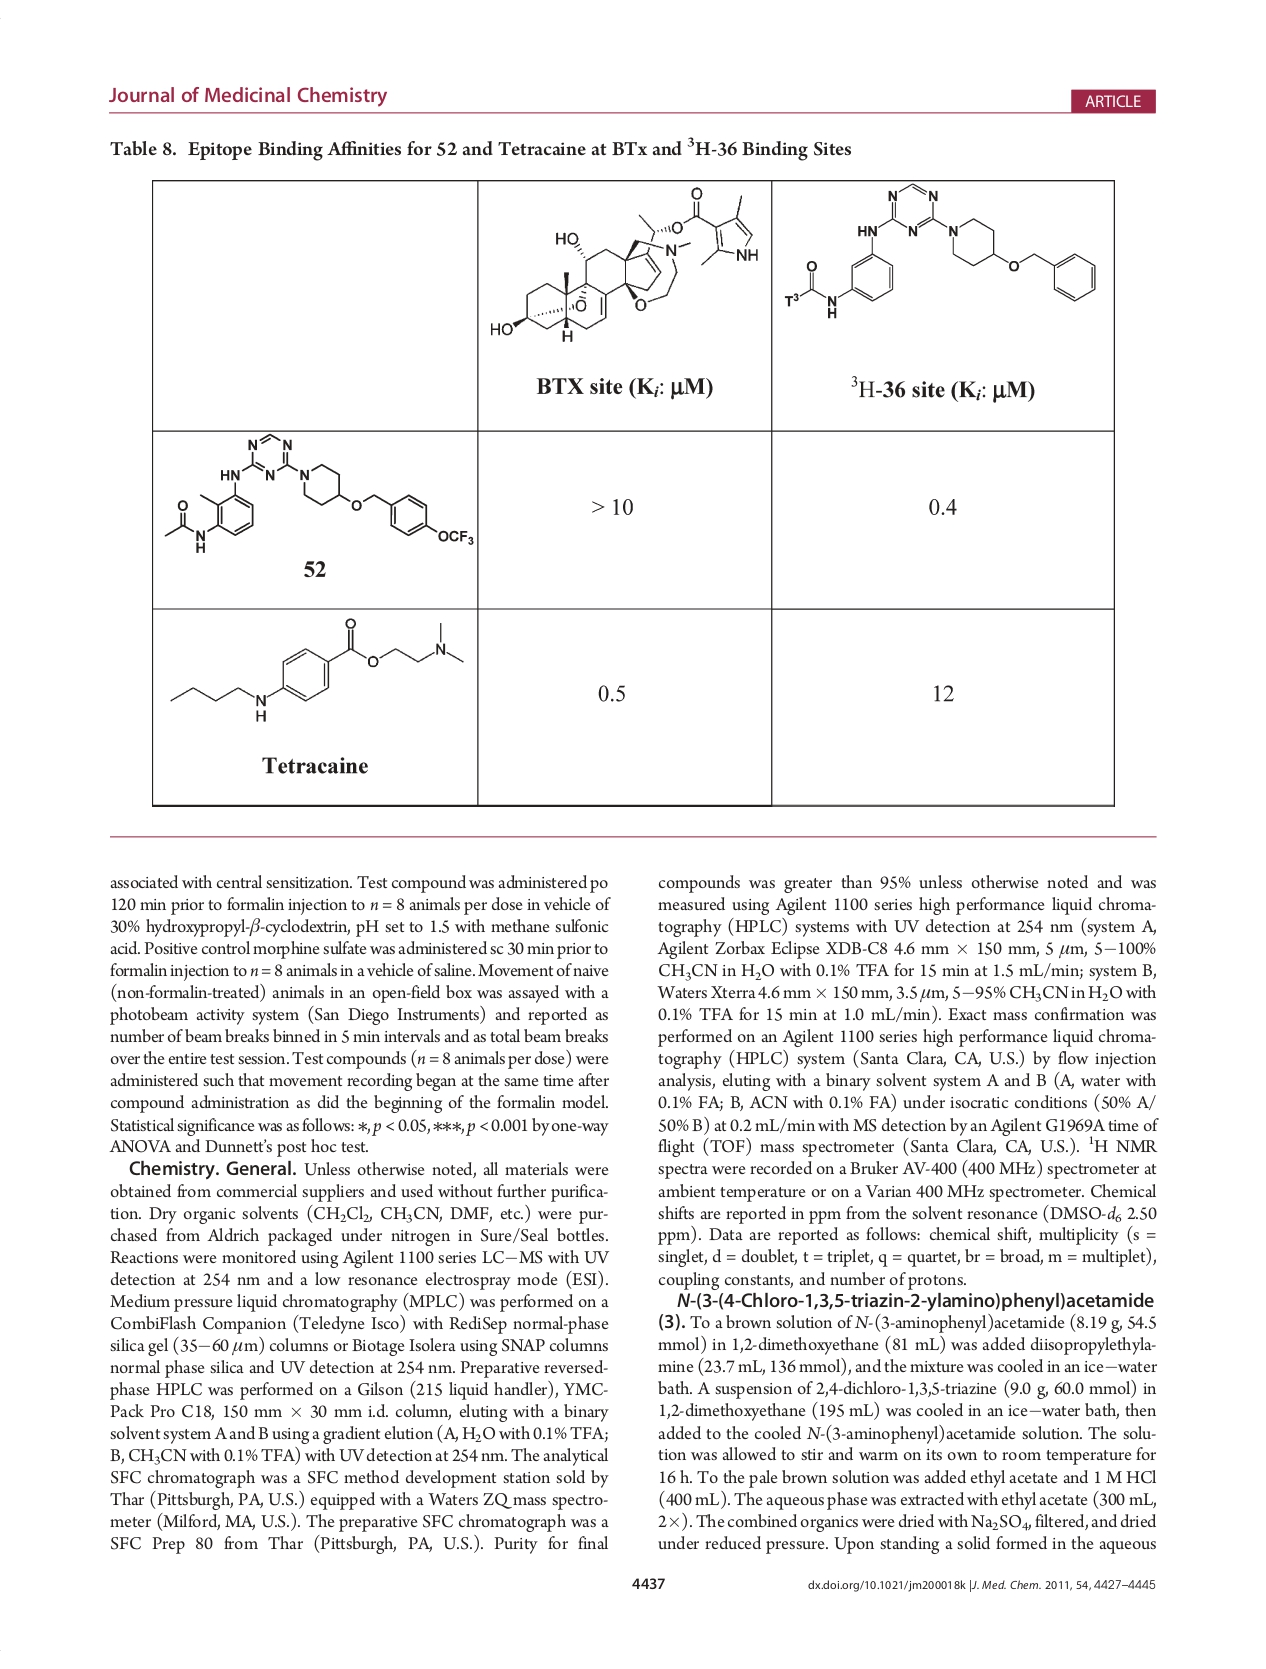exist_molecular: (488, 185, 765, 348), (781, 184, 1100, 323), (164, 434, 476, 559), (165, 617, 468, 725)
